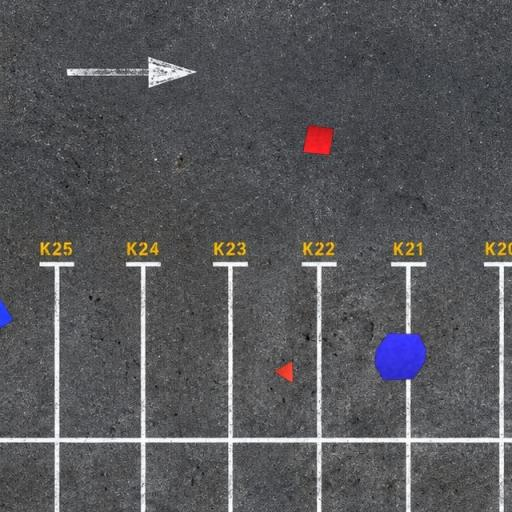RED_SQUARE: (302, 125, 336, 155)
